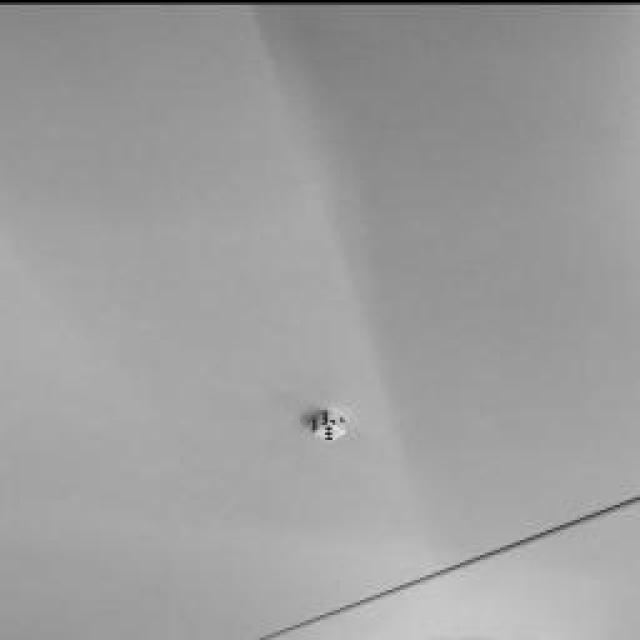dice_3: (312, 420, 348, 438)
